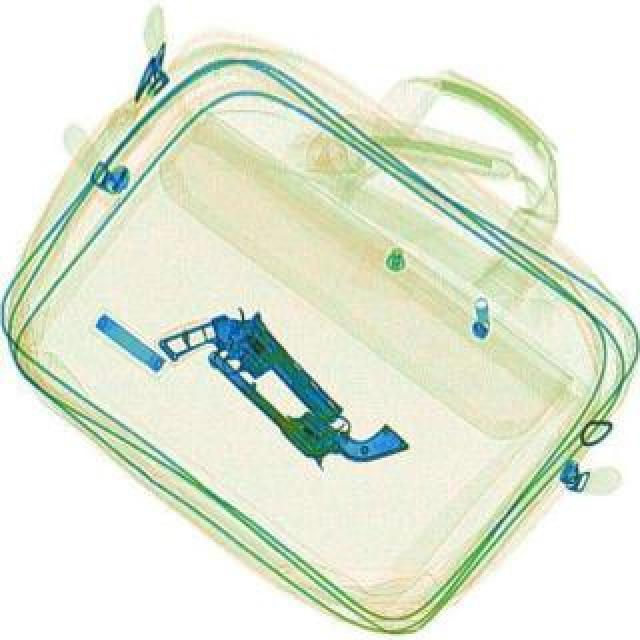gun: (202, 302, 410, 498), (156, 282, 348, 466)
